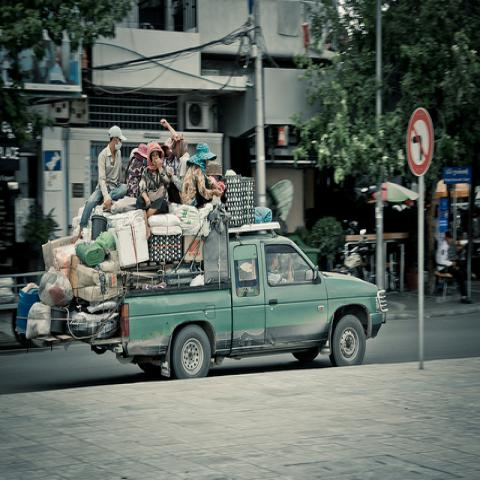truck: (25, 223, 386, 381)
